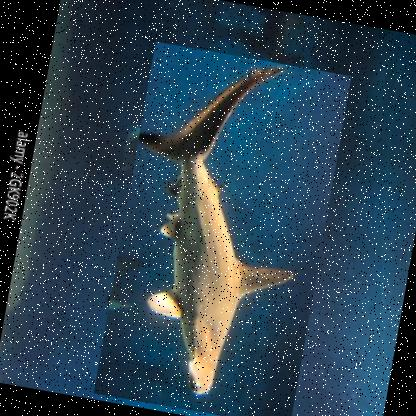hammerhead_Shark: (92, 41, 352, 415)
